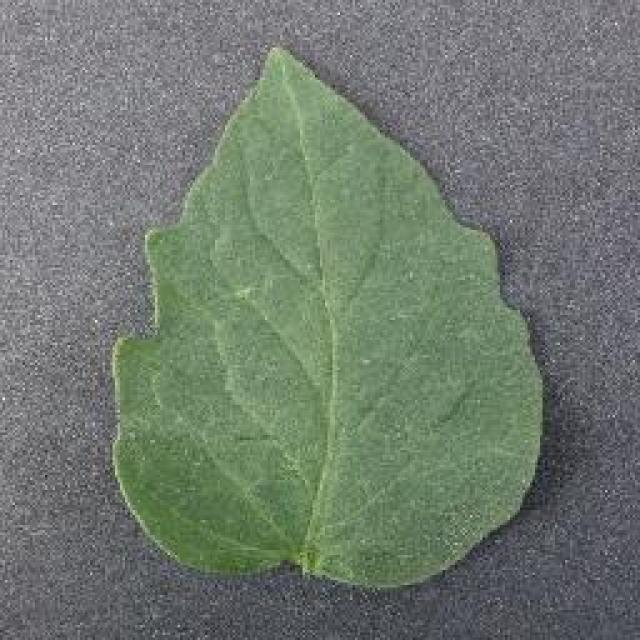healthy: (108, 42, 544, 586)
